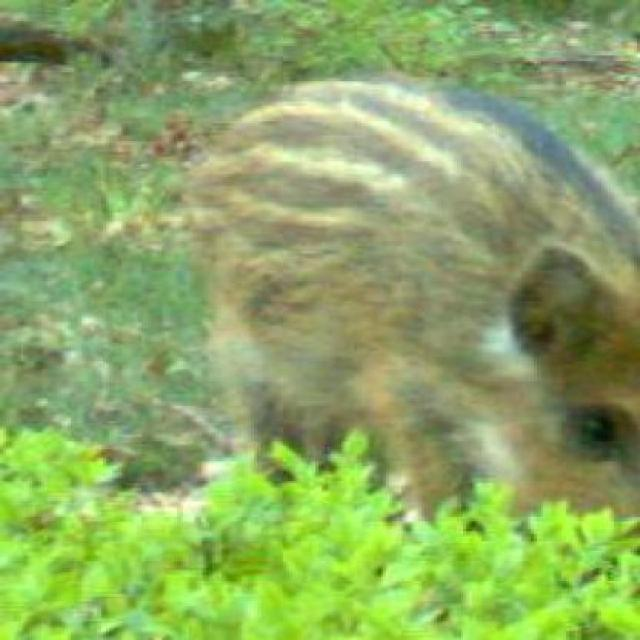Boar: (186, 64, 639, 534)
